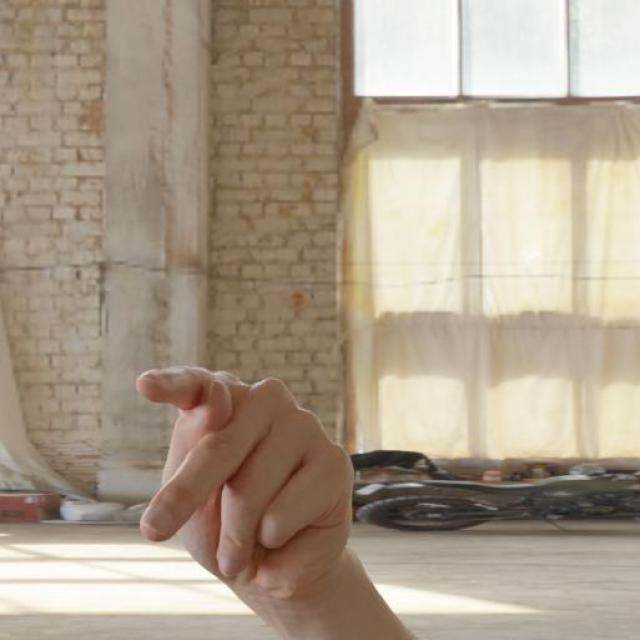P: (132, 358, 358, 602)
